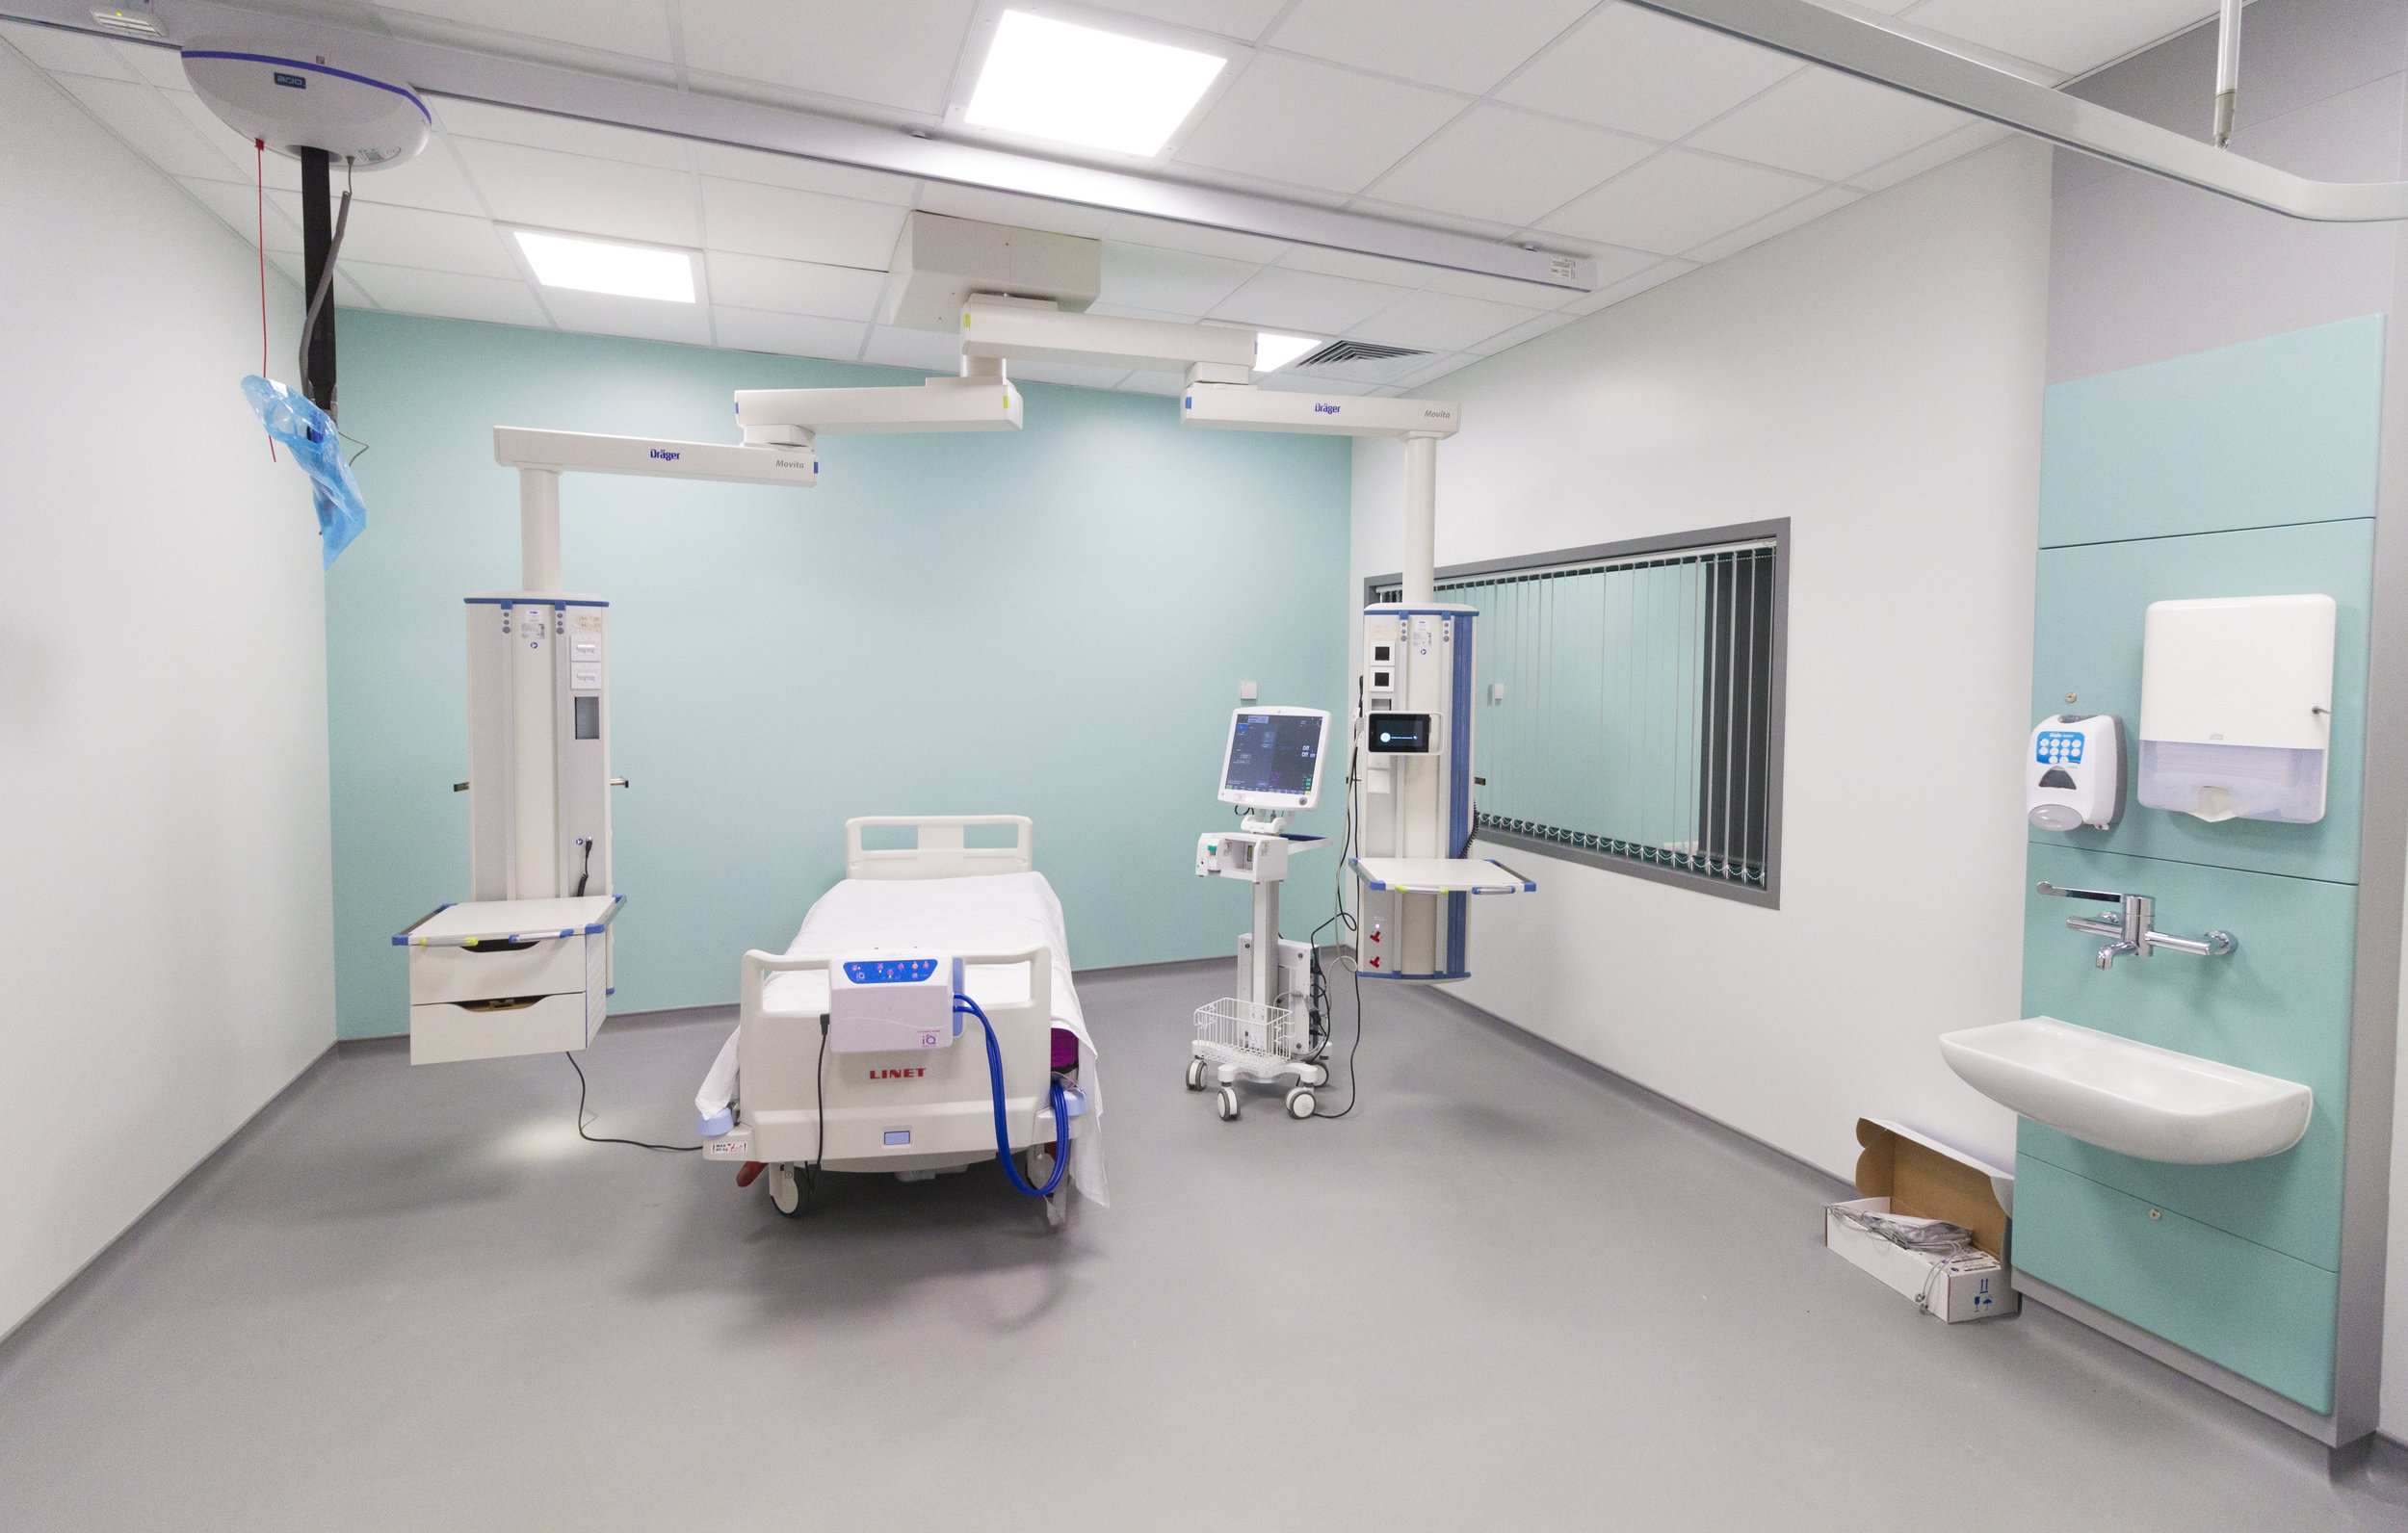bedside_monitor: (1213, 695, 1323, 812), (1369, 714, 1443, 758)
dispenser: (2143, 605, 2341, 824), (2018, 714, 2134, 837)
faucet: (2034, 872, 2247, 1003)
foot_board: (730, 942, 1060, 1163)
hospital_bed: (693, 816, 1109, 1231)
medical_drawer: (400, 912, 607, 1058)
sequential_compression: (827, 949, 1020, 1151)
sink: (1938, 1010, 2304, 1184)
